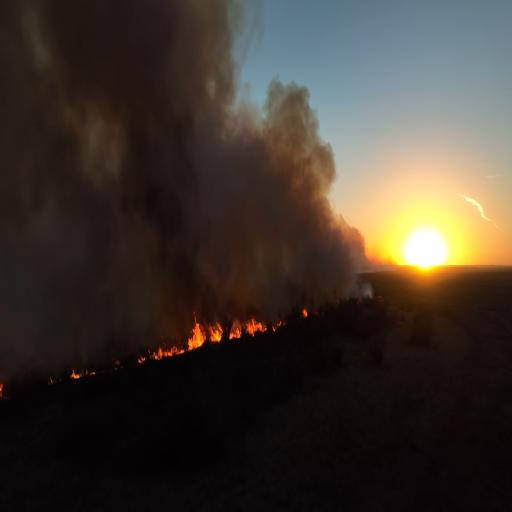fire: (186, 308, 220, 350), (228, 316, 266, 349)
smoke: (0, 0, 204, 173), (4, 132, 149, 350), (186, 74, 317, 264)
